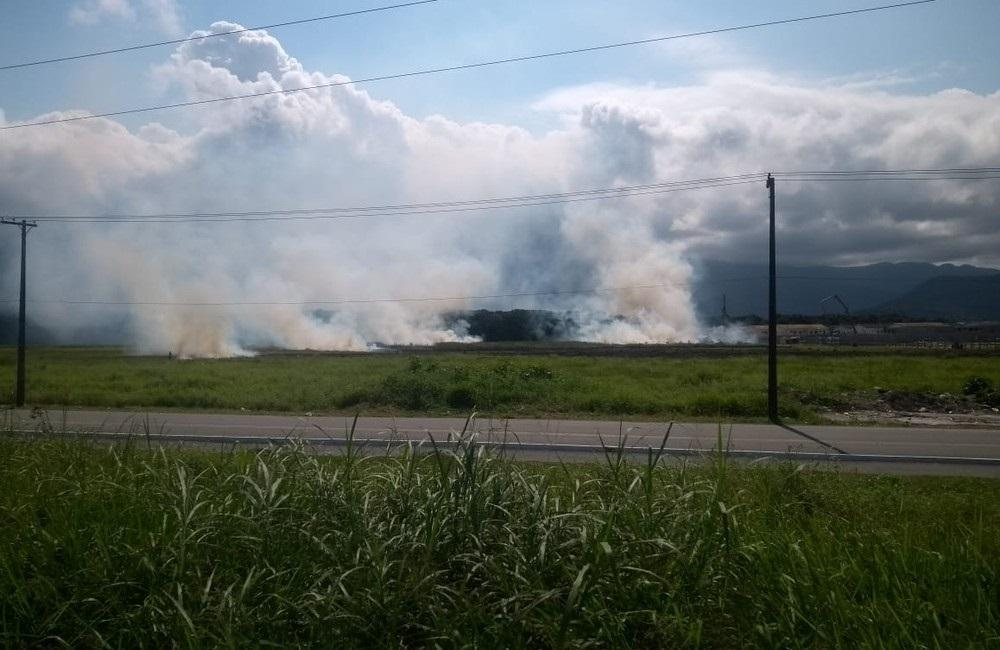smoke: (178, 270, 360, 310)
